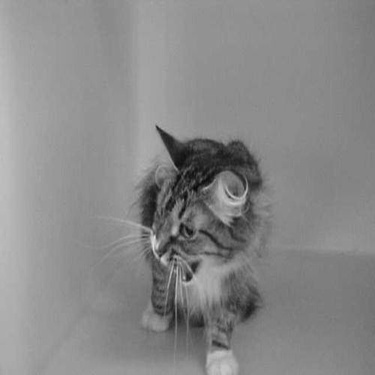cat: (115, 121, 280, 366)
